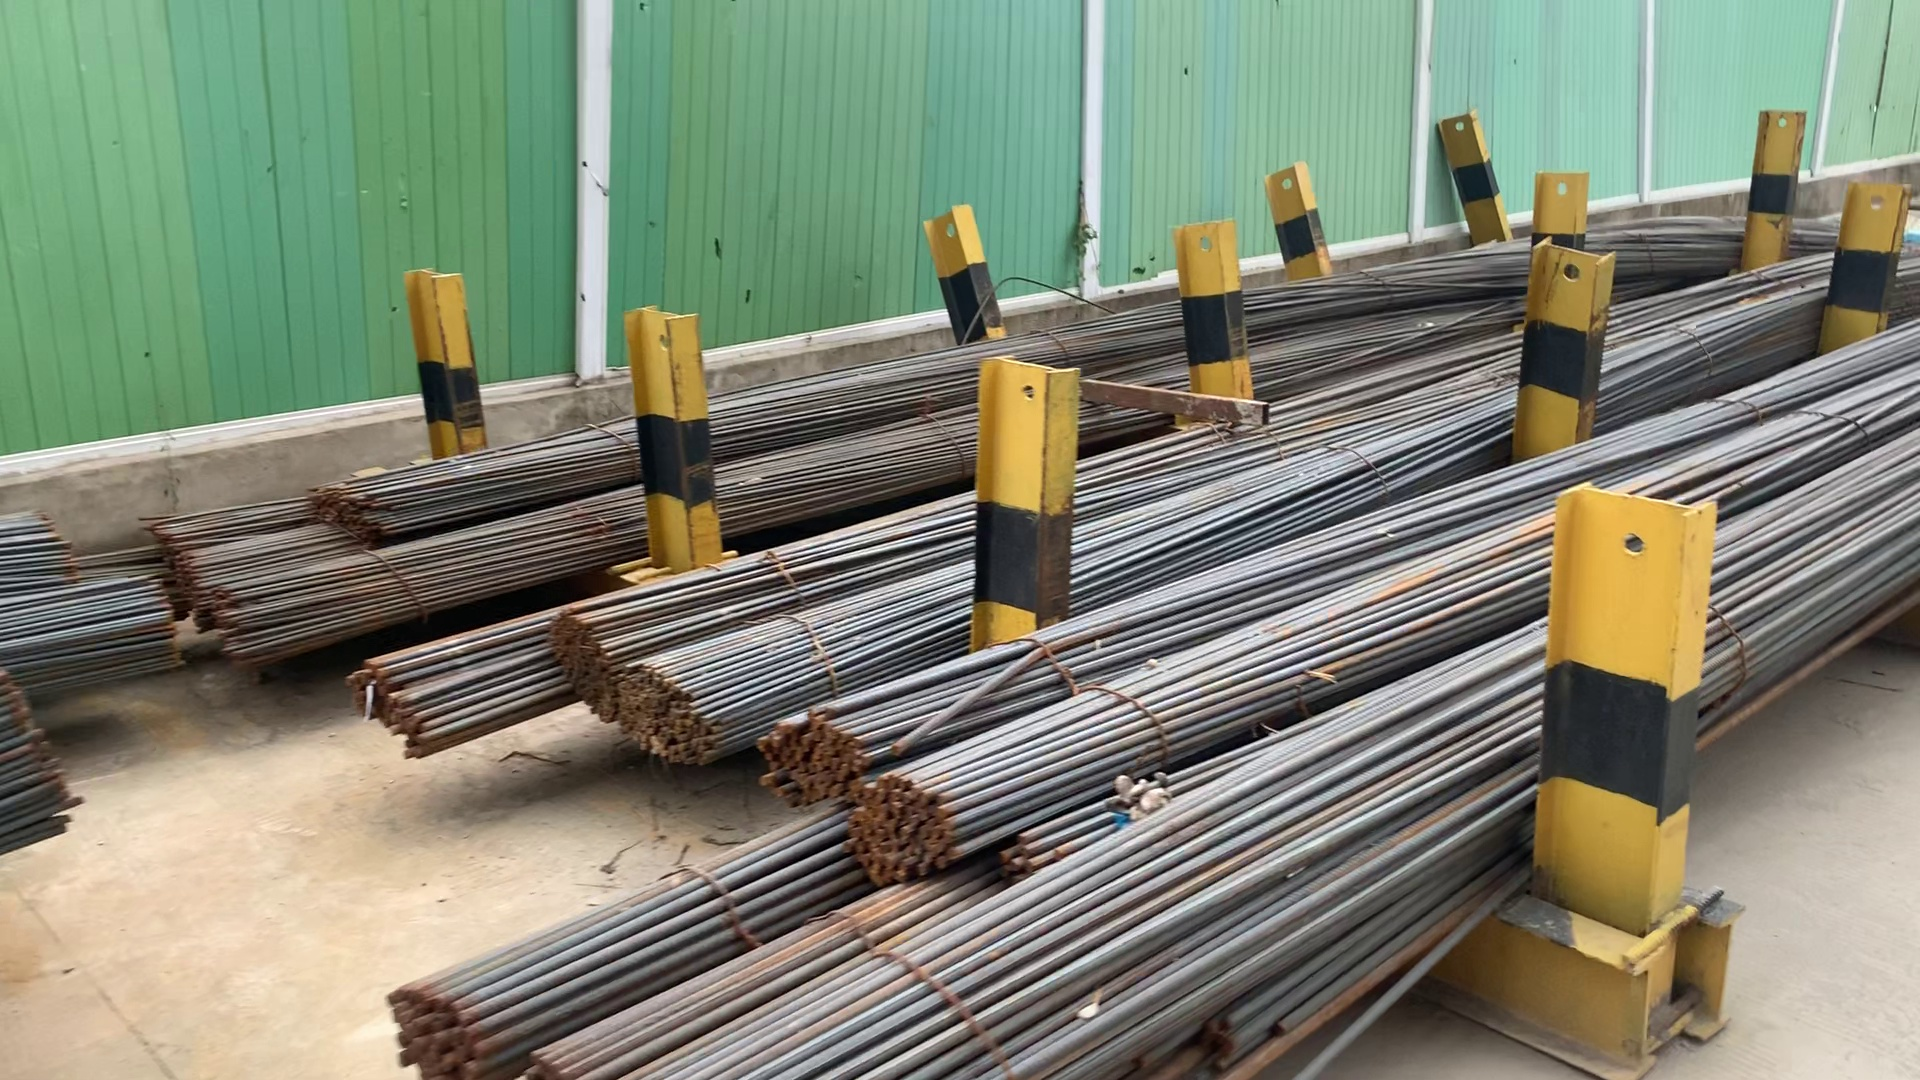rebar: (382, 981, 495, 1080), (757, 712, 857, 800), (849, 785, 945, 876), (347, 661, 430, 761), (624, 669, 713, 758), (545, 612, 616, 720), (311, 479, 392, 545), (212, 593, 261, 675)
